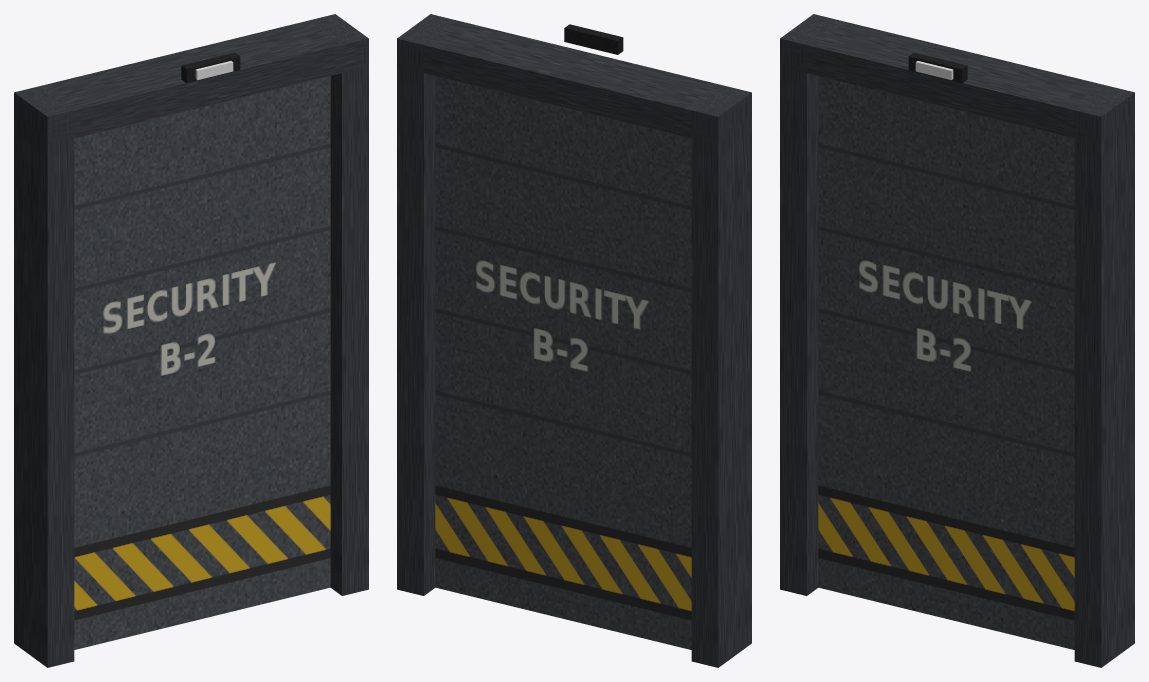
Rendered from SM_DoorSecurity.fbx.
3 renders of one model, left to right at view 1: azimuth 30°, elevation 25°; view 2: azimuth 150°, elevation 25°; view 3: azimuth 330°, elevation 25°, orthographic.
Parts seen in each view (by area): view 1: Panel, SM_DoorSecurity; view 2: Panel, SM_DoorSecurity; view 3: Panel, SM_DoorSecurity.
Boxes of the visible parts, bbox=[...] form: Panel: bbox=[74, 76, 330, 649]; SM_DoorSecurity: bbox=[14, 14, 368, 667]; Panel: bbox=[435, 76, 691, 649]; SM_DoorSecurity: bbox=[397, 14, 751, 667]; Panel: bbox=[818, 76, 1074, 649]; SM_DoorSecurity: bbox=[780, 14, 1134, 667].
Bounding box in the file's own units: 1.44 × 2.44 × 0.315.
Materials: 2 (1 with a texture image).
